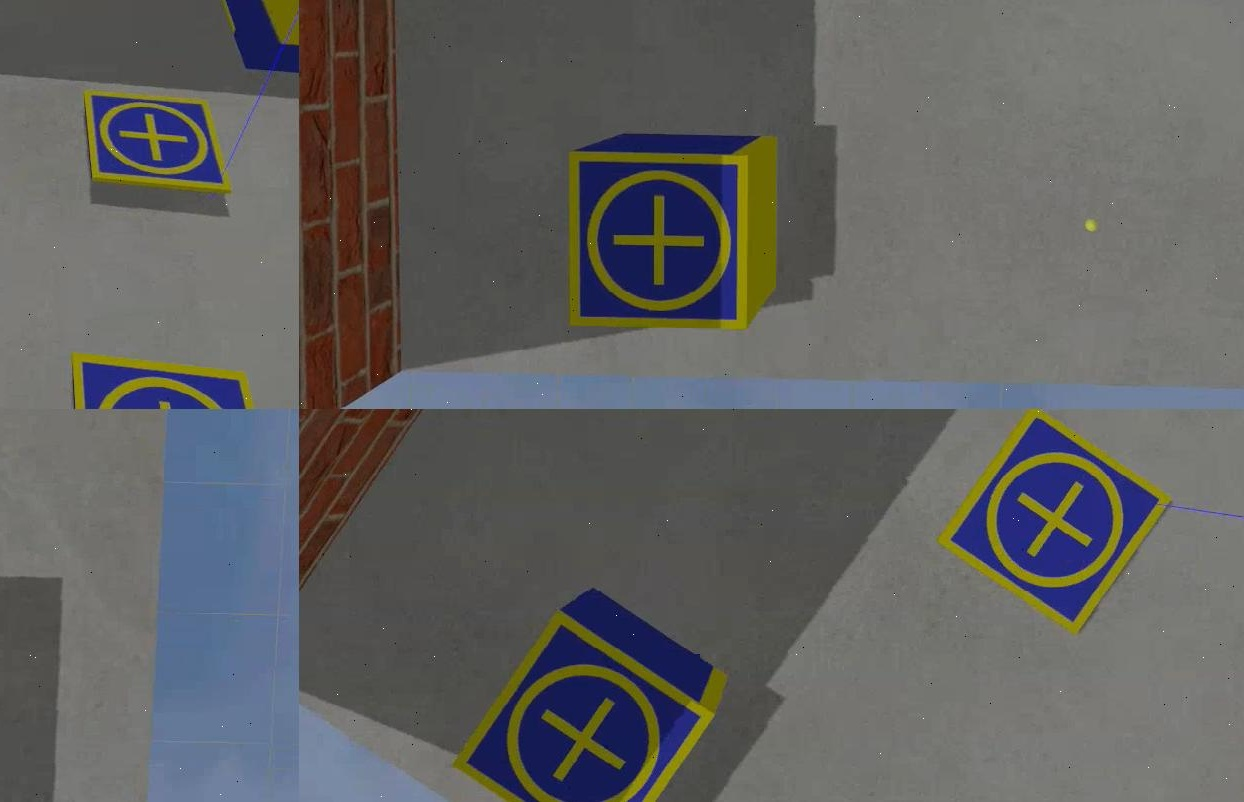large_base: (202, 1, 297, 83)
small_base: (938, 410, 1169, 639), (450, 607, 710, 802), (566, 152, 751, 333), (80, 88, 232, 195), (68, 358, 281, 410)
